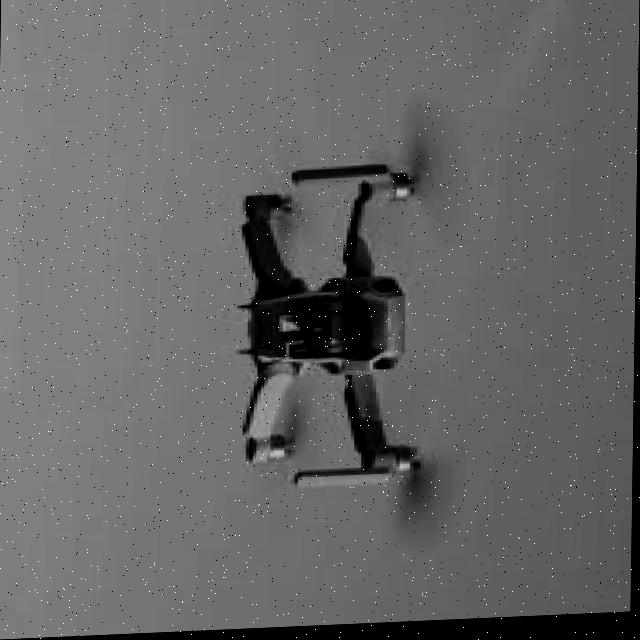drone: (206, 105, 470, 559)
